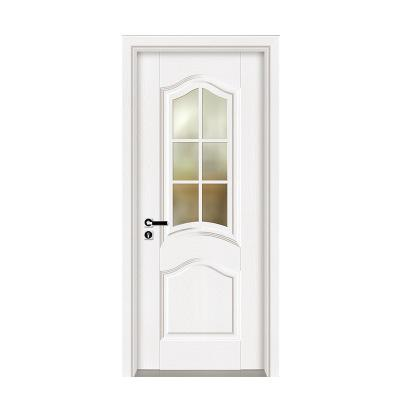door: (136, 51, 265, 370)
